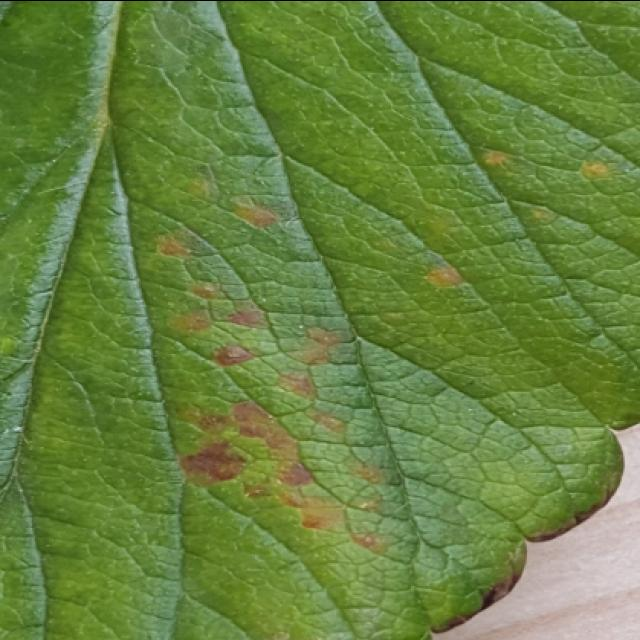Angular Leafspot: (153, 134, 616, 578)
